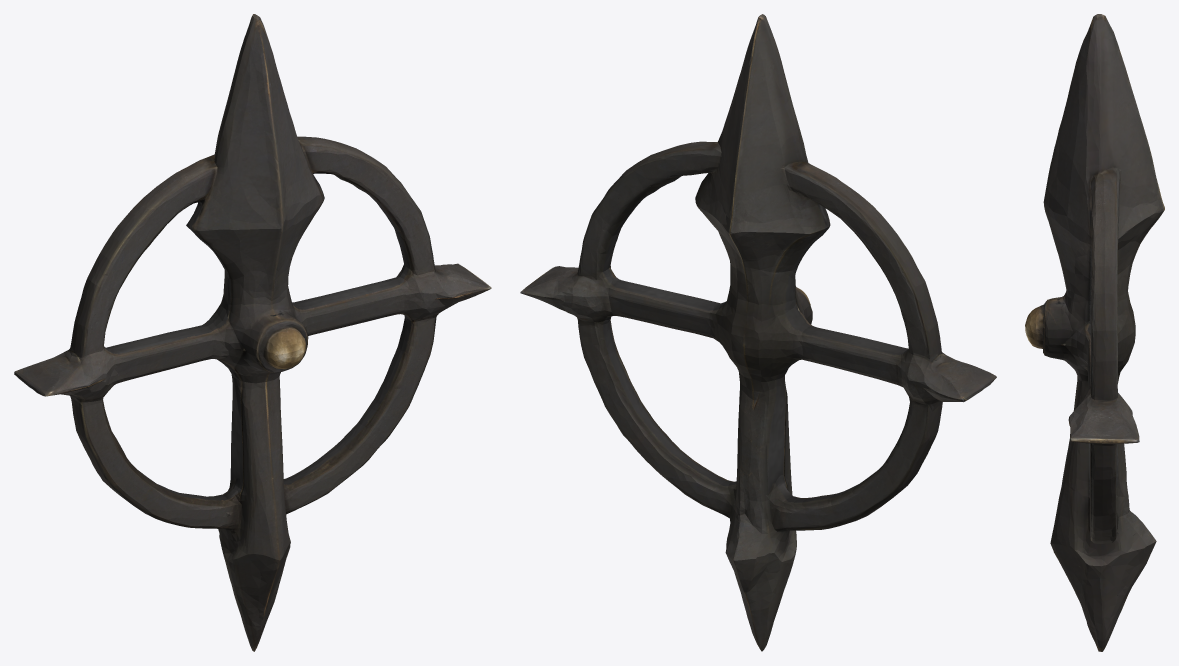
The model's file is Compass_Emblem_0420061036_texture.fbx.
3 renders of one model, left to right at view 1: azimuth 30°, elevation 25°; view 2: azimuth 150°, elevation 25°; view 3: azimuth 270°, elevation 25°, orthographic.
Visible parts, largest first — view 1: temp; view 2: temp; view 3: temp.
Boxes of the visible parts, x1,y1,x2,y2 form: temp: (14,14,491,651); temp: (520,14,996,651); temp: (1025,14,1164,651).
Bounding box in the file's own units: 147 × 200 × 39.75.
1 material, 1 textured.
